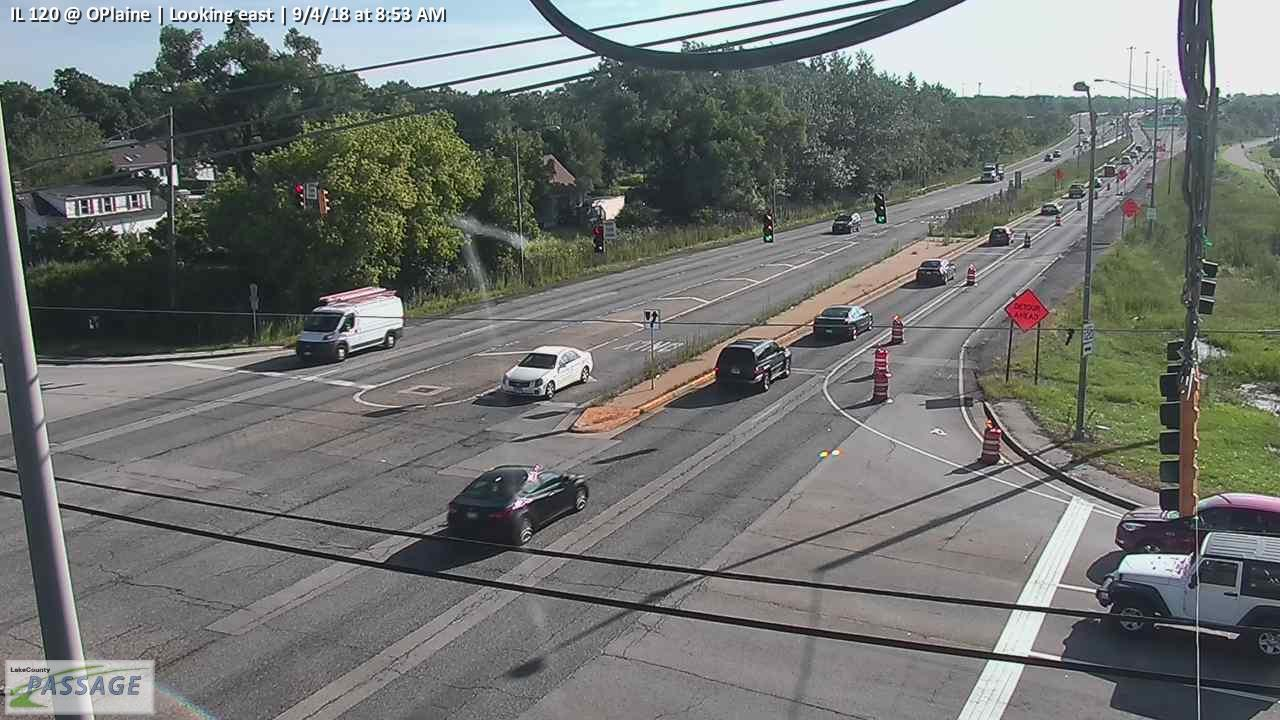SUV: (1091, 530, 1280, 658), (295, 286, 405, 365), (714, 337, 791, 394), (832, 211, 862, 234), (989, 225, 1016, 246), (1041, 202, 1062, 214), (1069, 183, 1086, 197)
Sedan: (447, 465, 589, 546), (1113, 488, 1280, 554), (501, 344, 594, 400), (813, 304, 873, 341), (916, 259, 957, 285)
Truck: (980, 162, 1004, 183)
